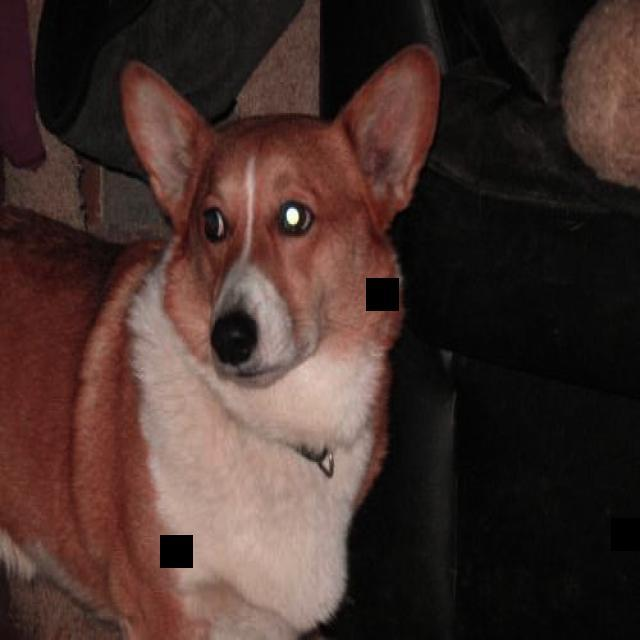adult_dog: (1, 46, 442, 640)
